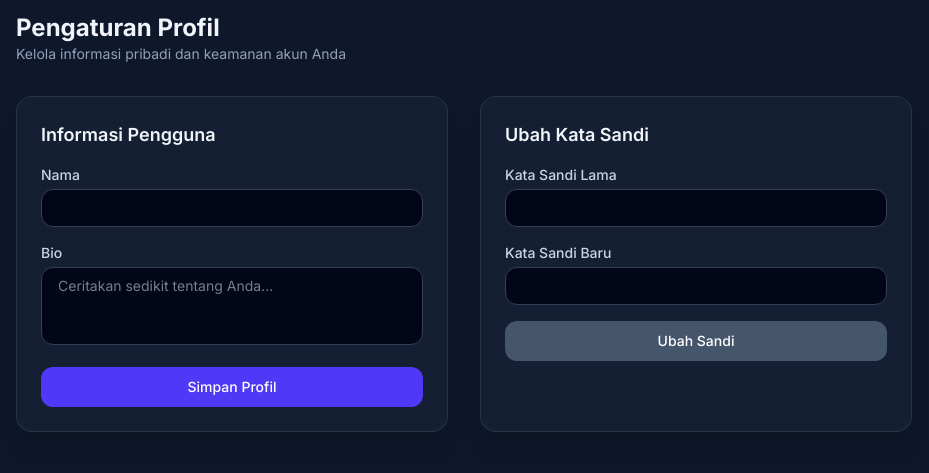
Test case: dashboard pages › covers profile initialization and fallback messages without a loaded user
Expected: the text box labelled "Bio" is empty, [41,267,423,345]
In the field labelled "Nama": (232, 208) [41,189,423,227], type "Ari"
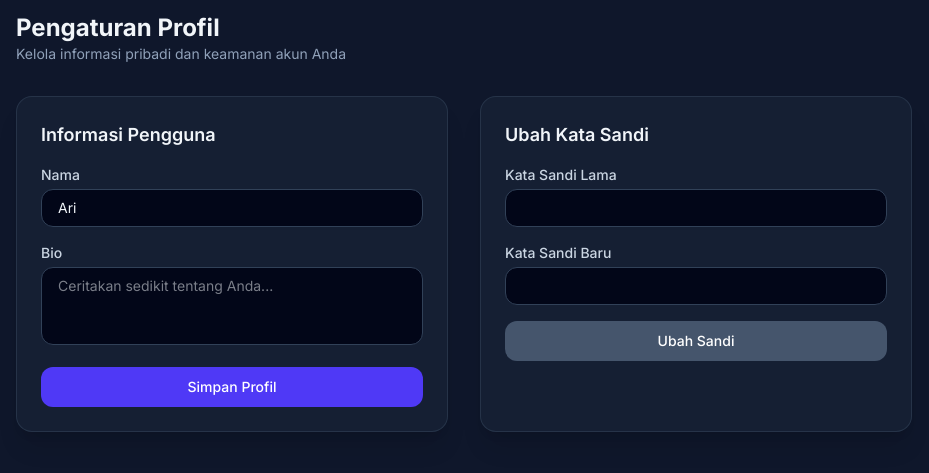
Click the button "Simpan Profil": (232, 387) [41,367,423,407]
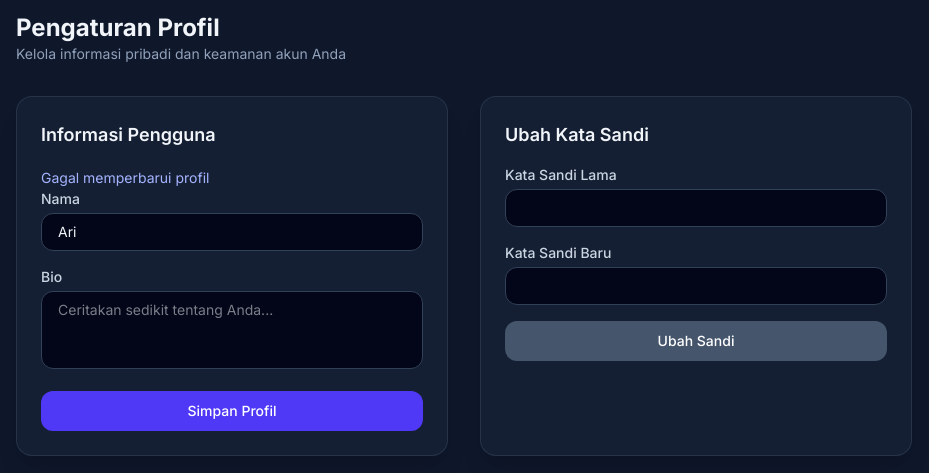
Now the text "Gagal memperbarui profil" is shown, box [41,169,209,186]
In the password field labelled "Kata Sandi Lama": (696, 208) [505,189,887,227], type "old"
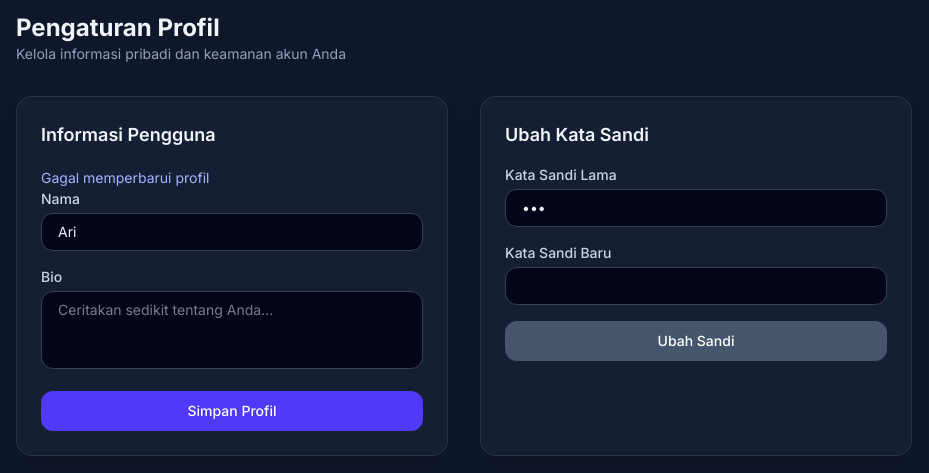
In the password field labelled "Kata Sandi Baru": (696, 286) [505,267,887,305], type "new"
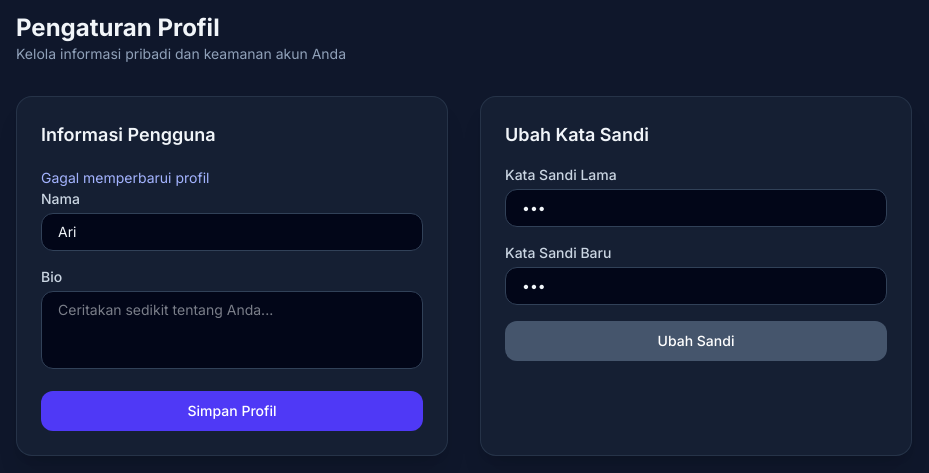
Click the button "Ubah Sandi": (696, 341) [505,321,887,361]
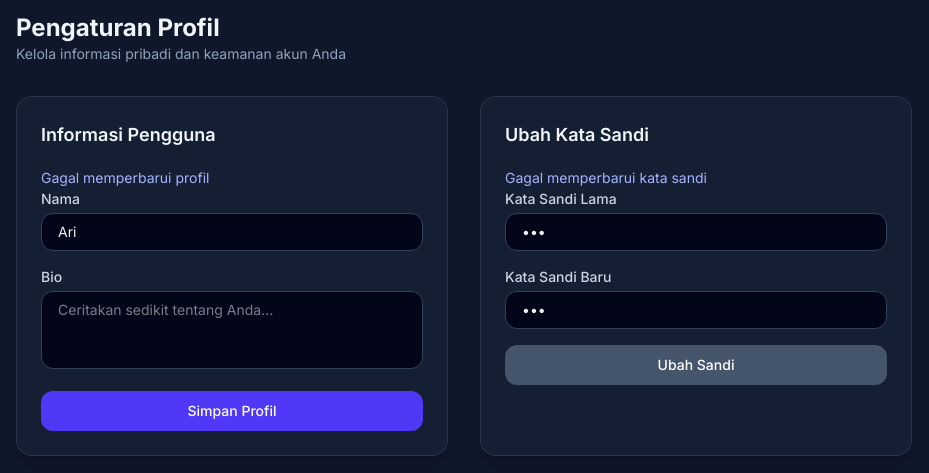
Now the text "Gagal memperbarui kata sandi" is shown, box [505,169,707,186]
